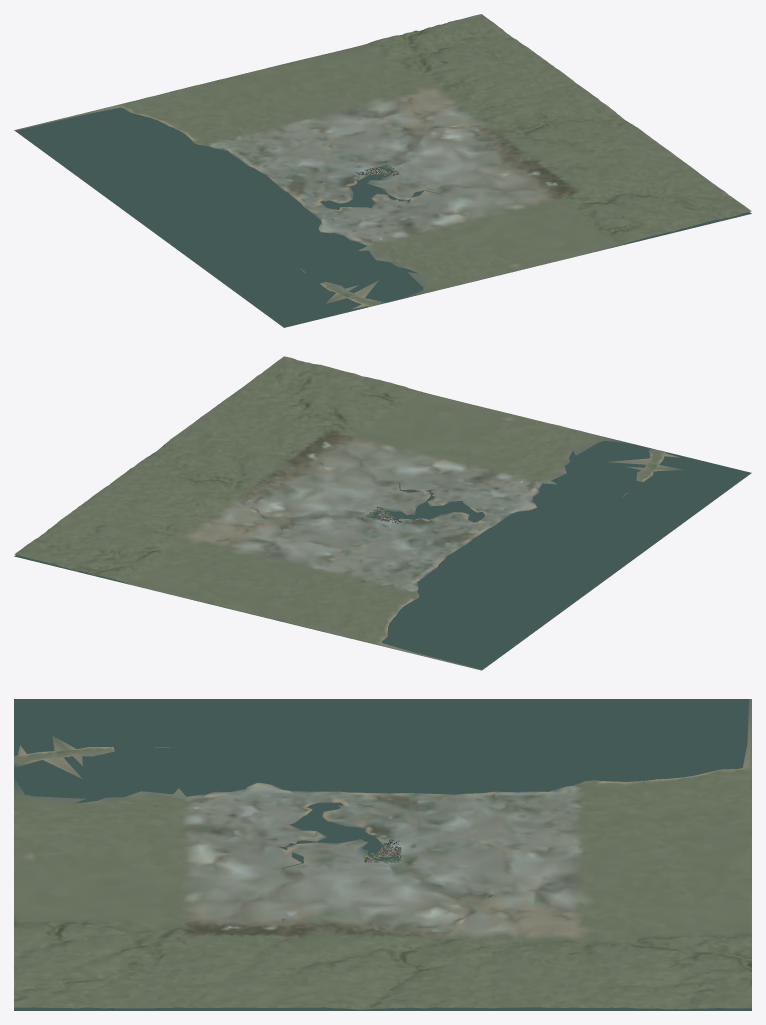
Rendered from waca_backdrop_part1.glb.
The picture shows the model from 3 angles, top to bottom: view 1: azimuth 30°, elevation 25°; view 2: azimuth 150°, elevation 25°; view 3: azimuth 270°, elevation 25°; orthographic projection. The views are drawn at different scales.
Parts seen in each view (by area): view 1: bg_far_terrain, bg_far_water; view 2: bg_far_terrain, bg_far_water; view 3: bg_far_terrain, bg_far_water.
Part boxes in pixels (x1,y1,x2,y2): bg_far_terrain: [14, 14, 751, 309]; bg_far_water: [15, 107, 751, 327]; bg_far_terrain: [14, 356, 682, 670]; bg_far_water: [14, 441, 751, 669]; bg_far_terrain: [14, 699, 751, 1009]; bg_far_water: [14, 699, 751, 1010].
Bounding box in the file's own units: 60001 × 433 × 60005.
Materials: 35 (17 with a texture image).
